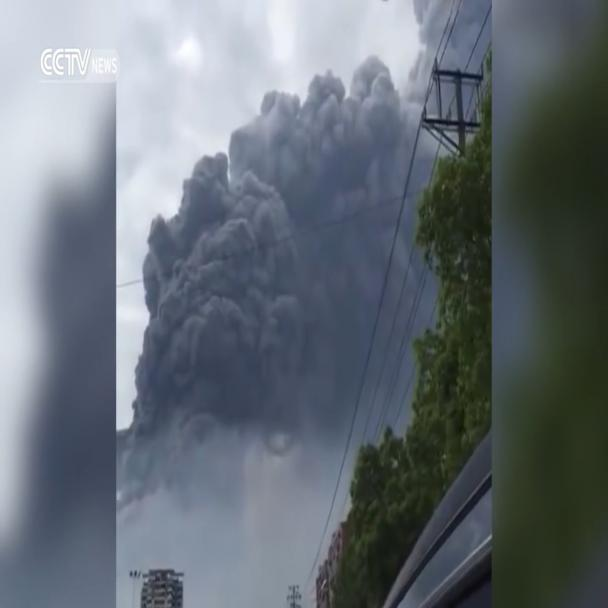smoke: (124, 6, 460, 607)
